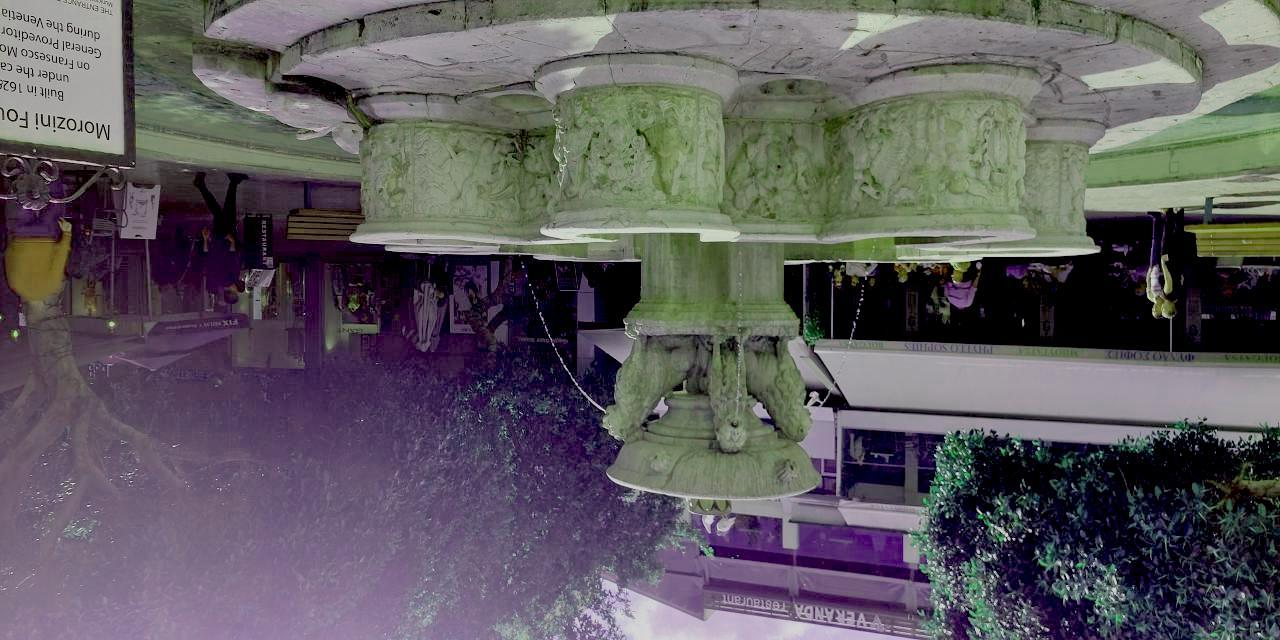Liontaria: (351, 50, 1096, 537)
